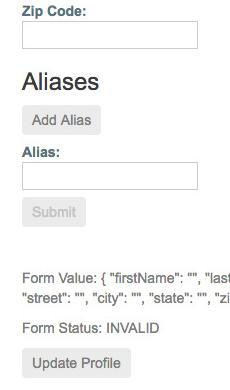button: (19, 347, 134, 381), (19, 102, 105, 136), (19, 194, 88, 228)
field: (20, 161, 200, 194), (20, 19, 200, 51)
field_with_label: (18, 145, 201, 196), (16, 3, 201, 52)
